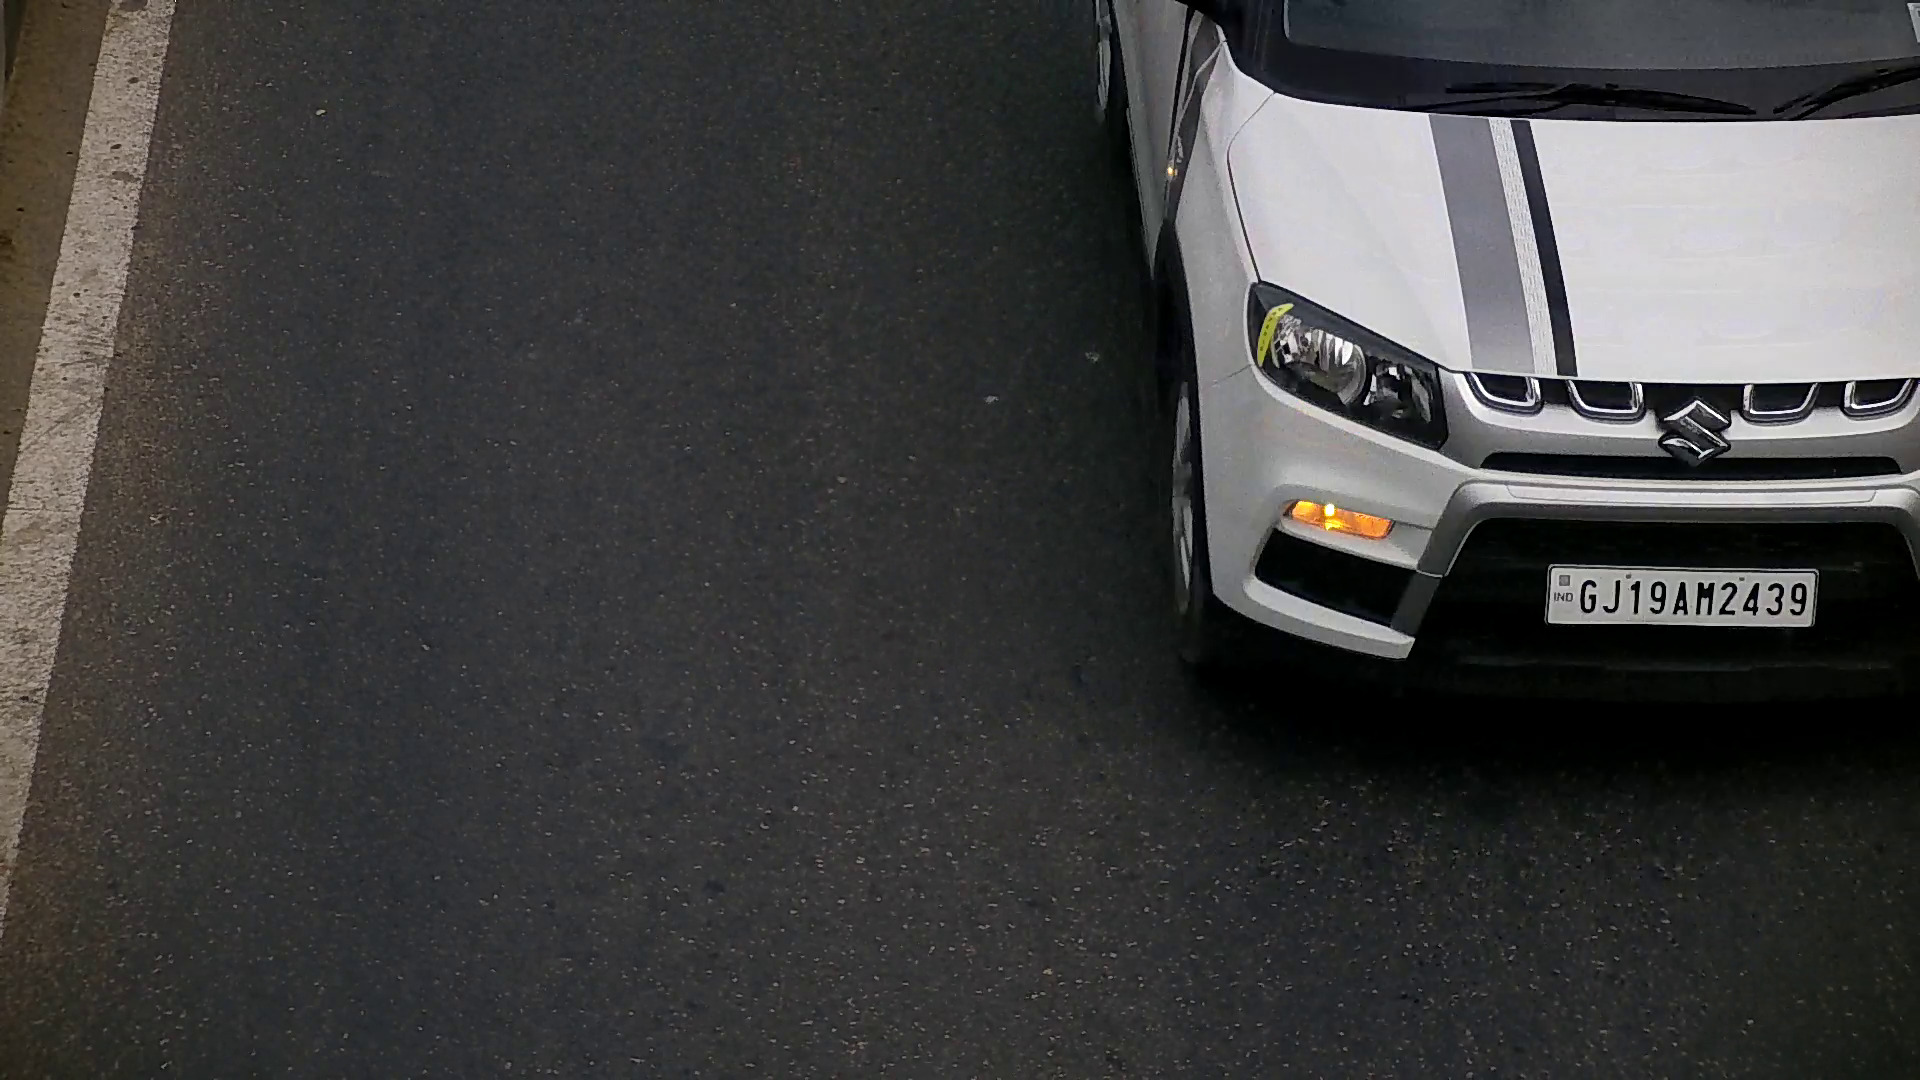numberplate: (1543, 559, 1822, 631)
